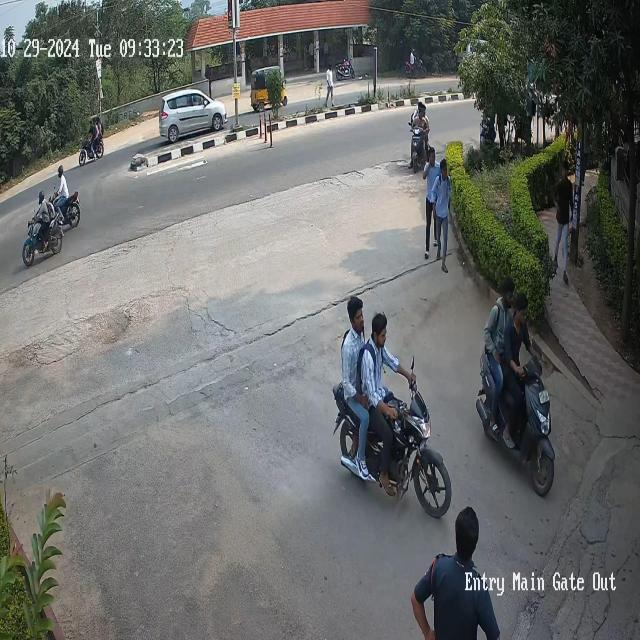double_rider: (333, 290, 452, 518), (474, 276, 556, 498)
